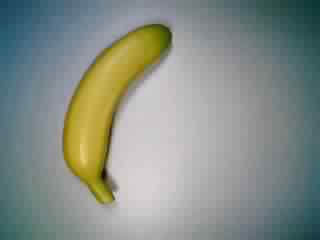banana: (58, 20, 176, 209)
